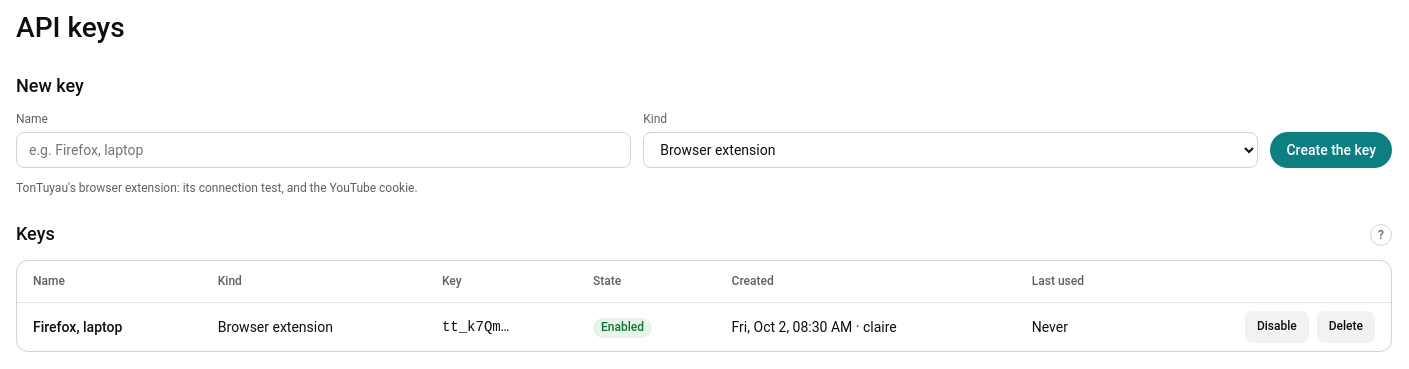
ApiKeysPage › disables a key, then shows it disabled
Click the button with aria-label "Disable “Firefox, laptop”". click: (1277, 327)
box: [1245, 311, 1309, 343]
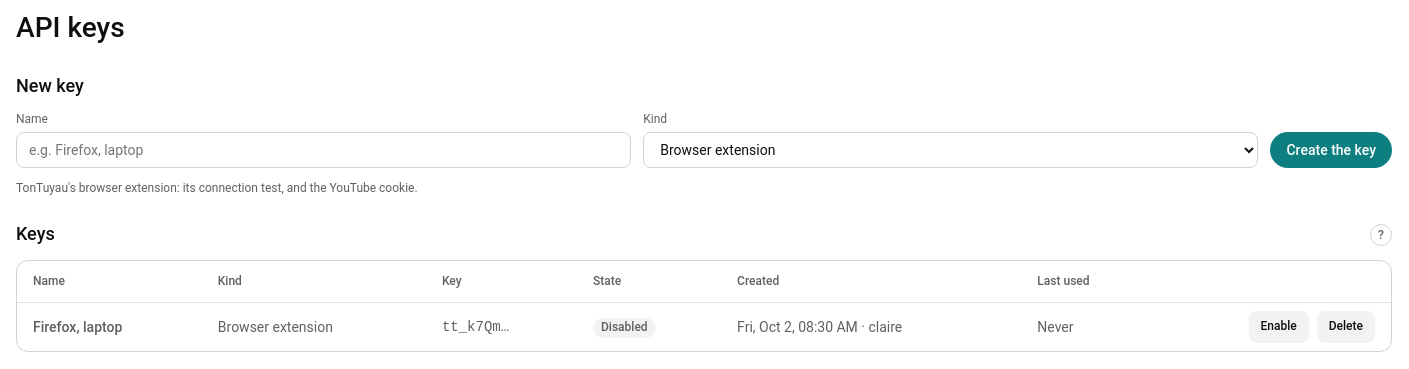
Check: the button with aria-label "Enable “Firefox, laptop”" is shown, box [1248, 311, 1309, 343]
Check: the text "Disabled" is shown, box [593, 318, 656, 338]
